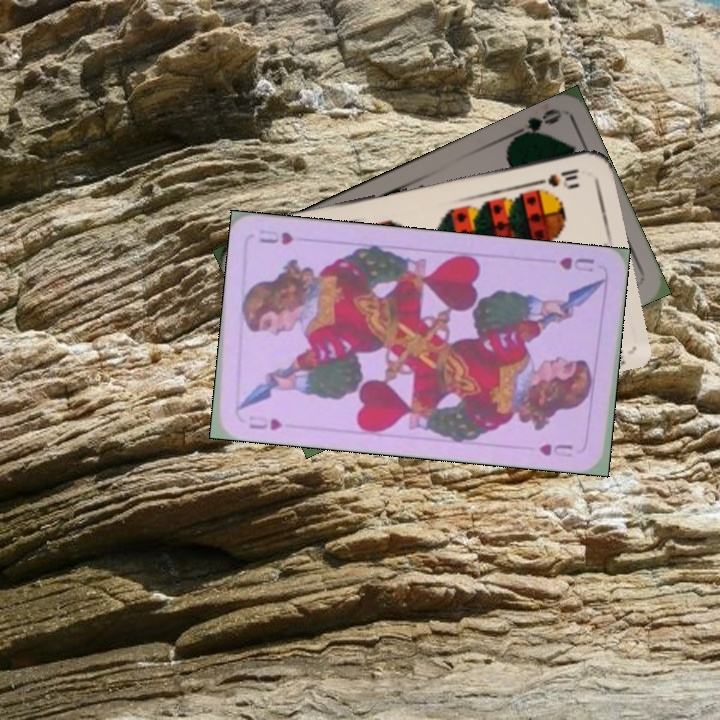GO: (505, 104, 563, 145)
HU: (556, 253, 597, 274), (245, 414, 285, 433)
S10: (530, 164, 582, 189)
